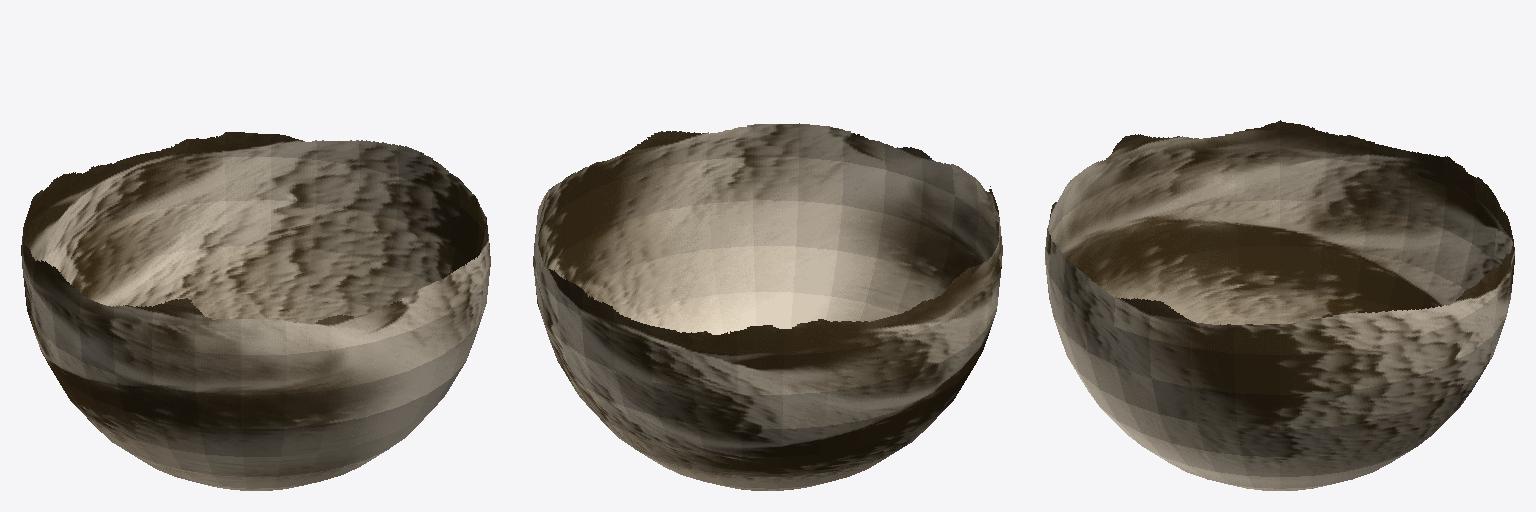
3 renders of one model, left to right at view 1: azimuth 30°, elevation 25°; view 2: azimuth 150°, elevation 25°; view 3: azimuth 270°, elevation 25°, orthographic.
Visible parts, largest first — view 1: landdns; view 2: landdns; view 3: landdns.
Part boxes in pixels (x1,y1,x2,y2): landdns: (21,132,490,490); landdns: (533,123,1002,490); landdns: (1045,120,1514,490).
Bounding box in the file's own units: 1080 × 1080 × 1080.
1 materials, 1 textured.